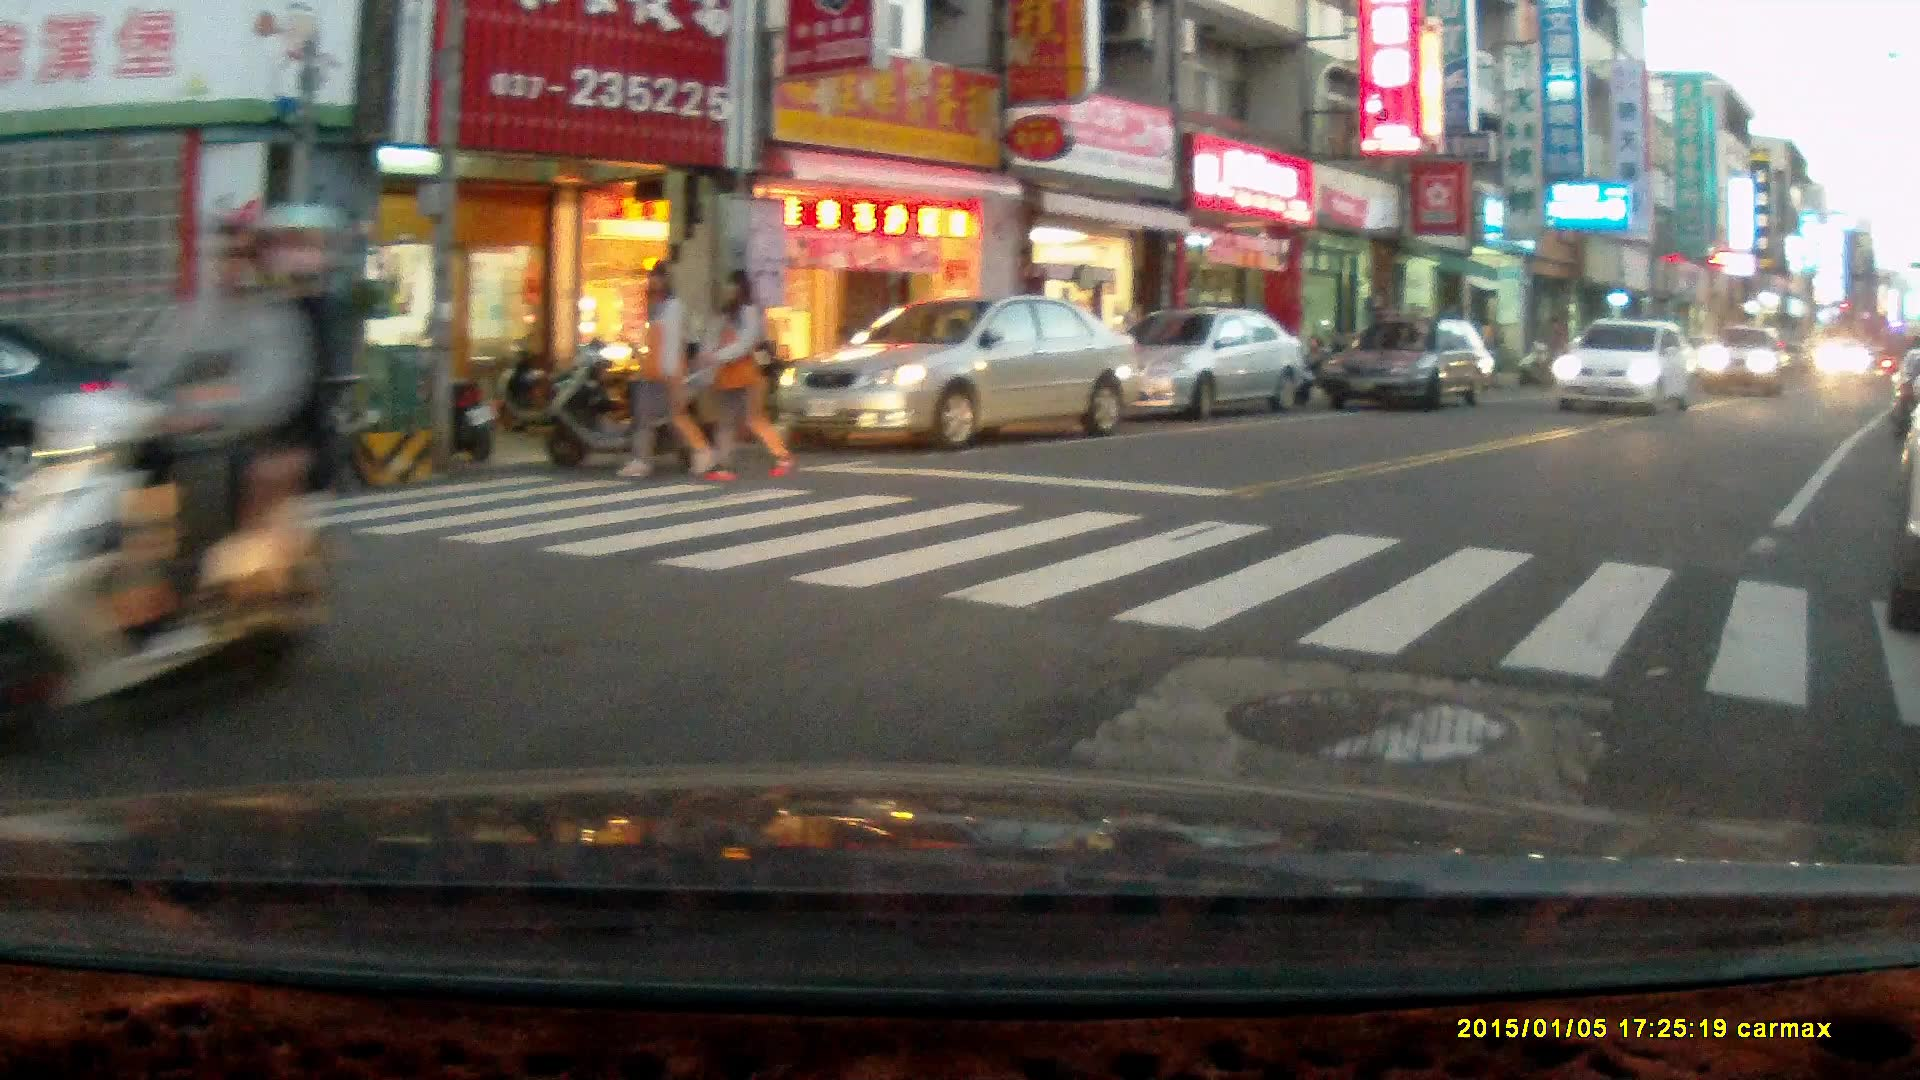pedestrian: (615, 261, 722, 479), (696, 263, 789, 482)
rider: (0, 195, 338, 760)
vehicle: (779, 296, 1143, 447), (1079, 308, 1311, 416), (1318, 316, 1503, 408), (1550, 317, 1699, 408), (1691, 321, 1795, 396), (1811, 333, 1870, 382)
